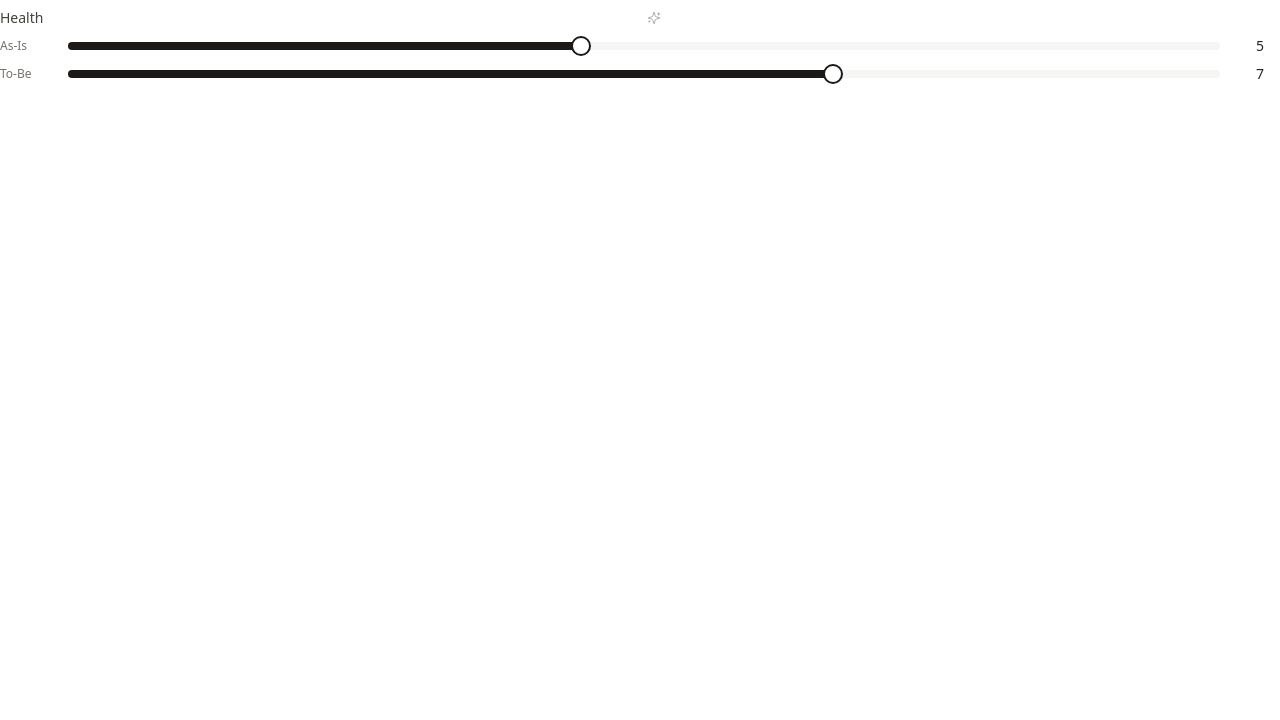
CategorySlider › AI Coach button (AI-01) › upgrade modal has a close/dismiss button
The width and height of the screenshot is (1280, 720).
Click the button named "ai coach": (654, 18) [647,11,661,25]
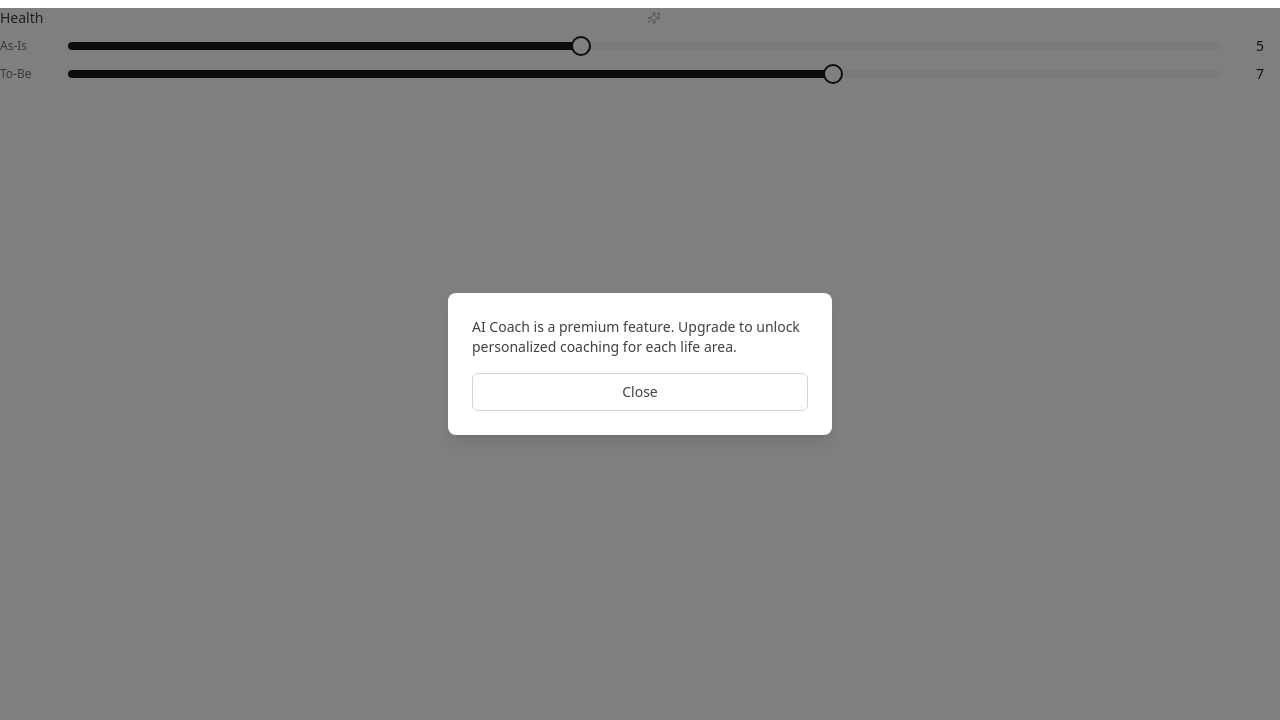
Now the button "Close" is shown
Click the button "Close": (640, 392) [472,373,808,411]
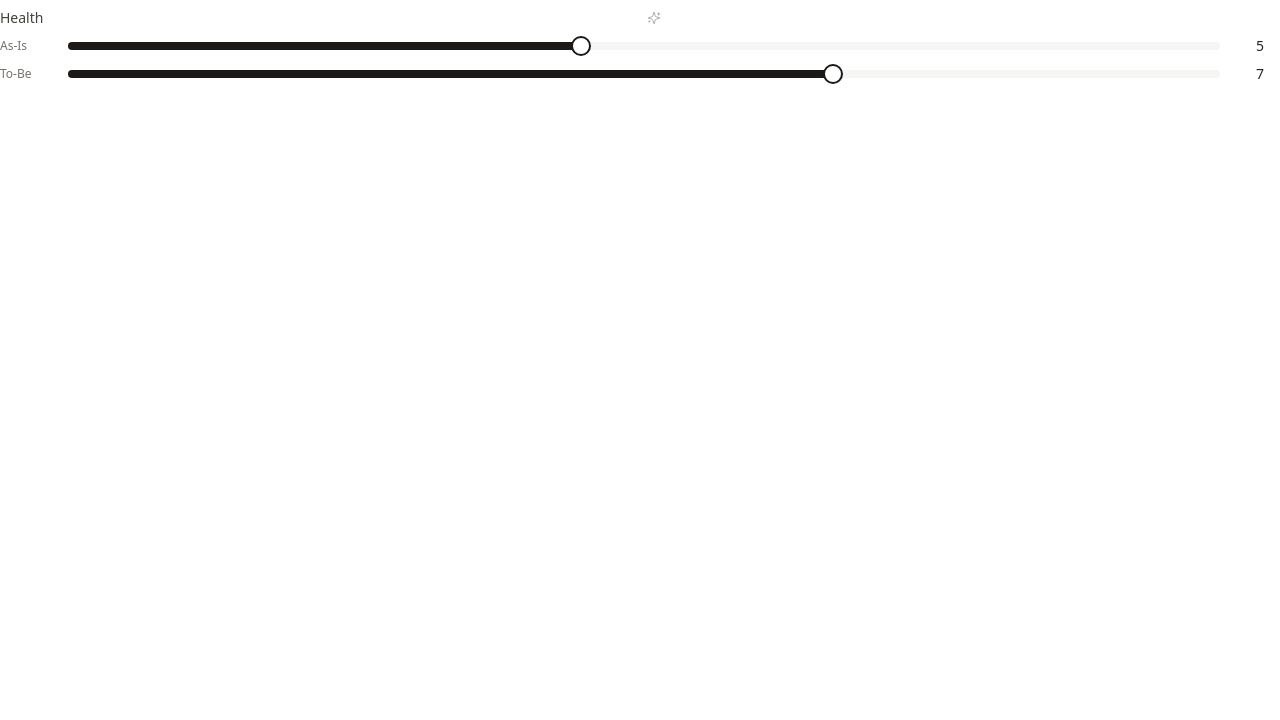
Now the text "Upgrade" is gone
